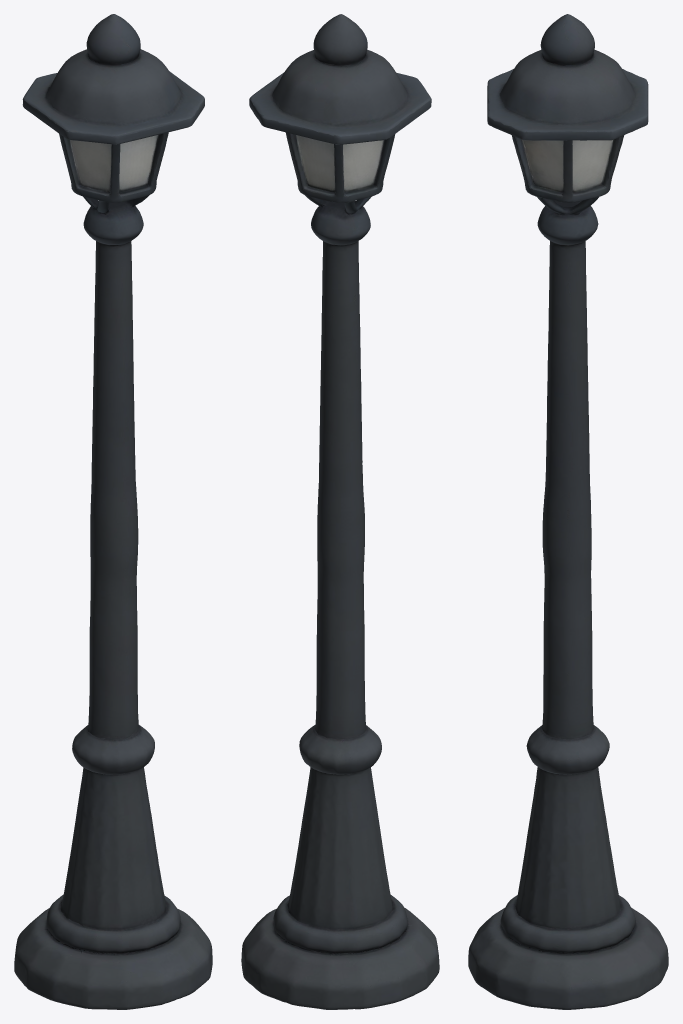
File: street_lamp.glb
3 renders of one model, left to right at view 1: azimuth 30°, elevation 25°; view 2: azimuth 150°, elevation 25°; view 3: azimuth 270°, elevation 25°, orthographic.
Visible parts, largest first — view 1: Mesh; view 2: Mesh; view 3: Mesh.
Boxes of the visible parts, x1=… form: Mesh: x1=14, y1=14, x2=212, y2=1009; Mesh: x1=241, y1=14, x2=439, y2=1009; Mesh: x1=468, y1=14, x2=668, y2=1009.
Size of the model in its own units: 0.3595 by 1.9 by 0.3607.
Materials: 1 (1 with a texture image).
